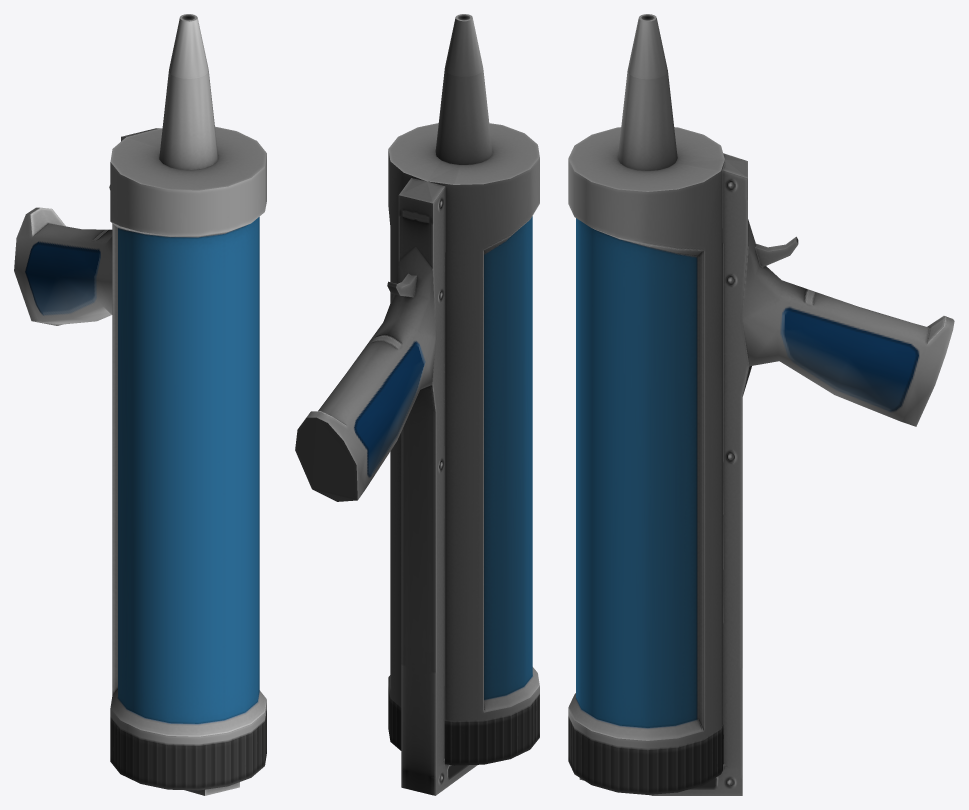
File: leak_patch_tool.obj
3 renders of one model, left to right at view 1: azimuth 30°, elevation 25°; view 2: azimuth 150°, elevation 25°; view 3: azimuth 270°, elevation 25°, orthographic. The views are drawn at different scales.
Parts seen in each view (by area): view 1: leak_patch_tool; view 2: leak_patch_tool, leak_patch_tool_trigger; view 3: leak_patch_tool, leak_patch_tool_trigger.
Boxes of the visible parts, x1=… form: leak_patch_tool: x1=14, y1=14, x2=266, y2=795; leak_patch_tool: x1=295, y1=14, x2=539, y2=795; leak_patch_tool_trigger: x1=387, y1=273, x2=416, y2=297; leak_patch_tool: x1=568, y1=14, x2=954, y2=795; leak_patch_tool_trigger: x1=755, y1=236, x2=798, y2=267.
Size of the model in its own units: 2.21 by 11.82 by 5.38.
